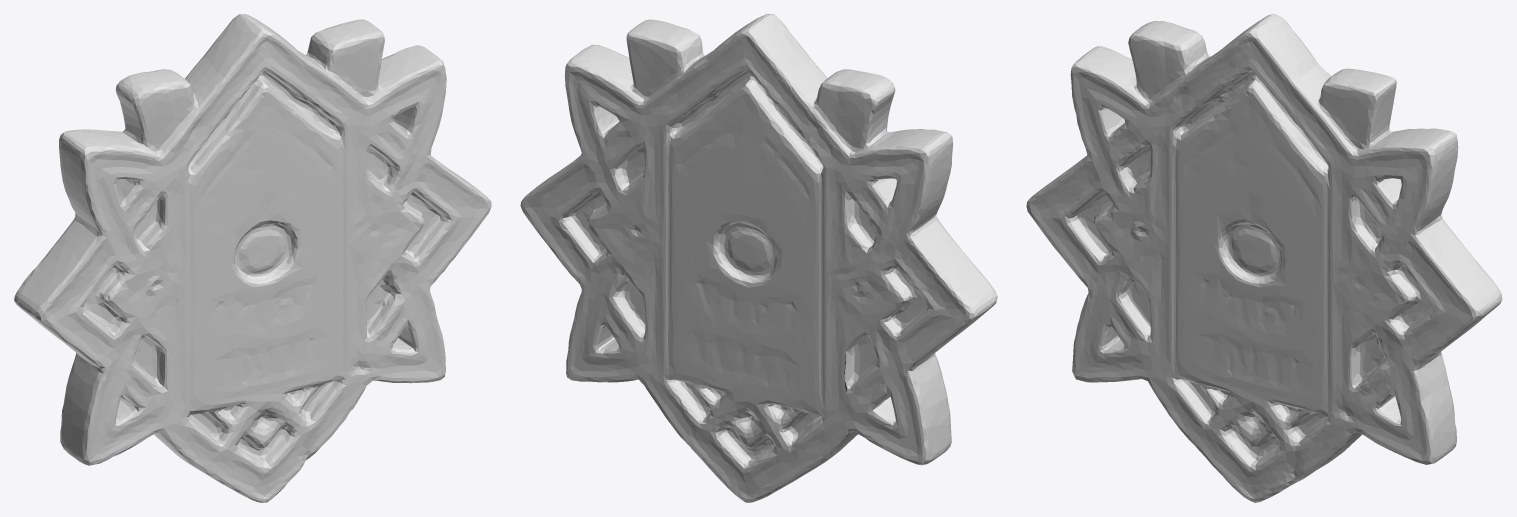
Rendered from rit_talisman01.glb.
3 views of the same model, side by side, from view 1: azimuth 30°, elevation 25°; view 2: azimuth 150°, elevation 25°; view 3: azimuth 330°, elevation 25° (orthographic).
Parts seen in each view (by area): view 1: Low; view 2: Low; view 3: Low.
Part boxes in pixels (left/top/right/bottom): Low: left=14, top=14, right=491, bottom=502; Low: left=520, top=14, right=997, bottom=502; Low: left=1026, top=14, right=1502, bottom=502.
Bounding box in the file's own units: 1.99 × 1.98 × 0.2138.
Materials: 1 (1 with a texture image).
